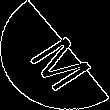M_NE: (16, 21, 94, 89)
